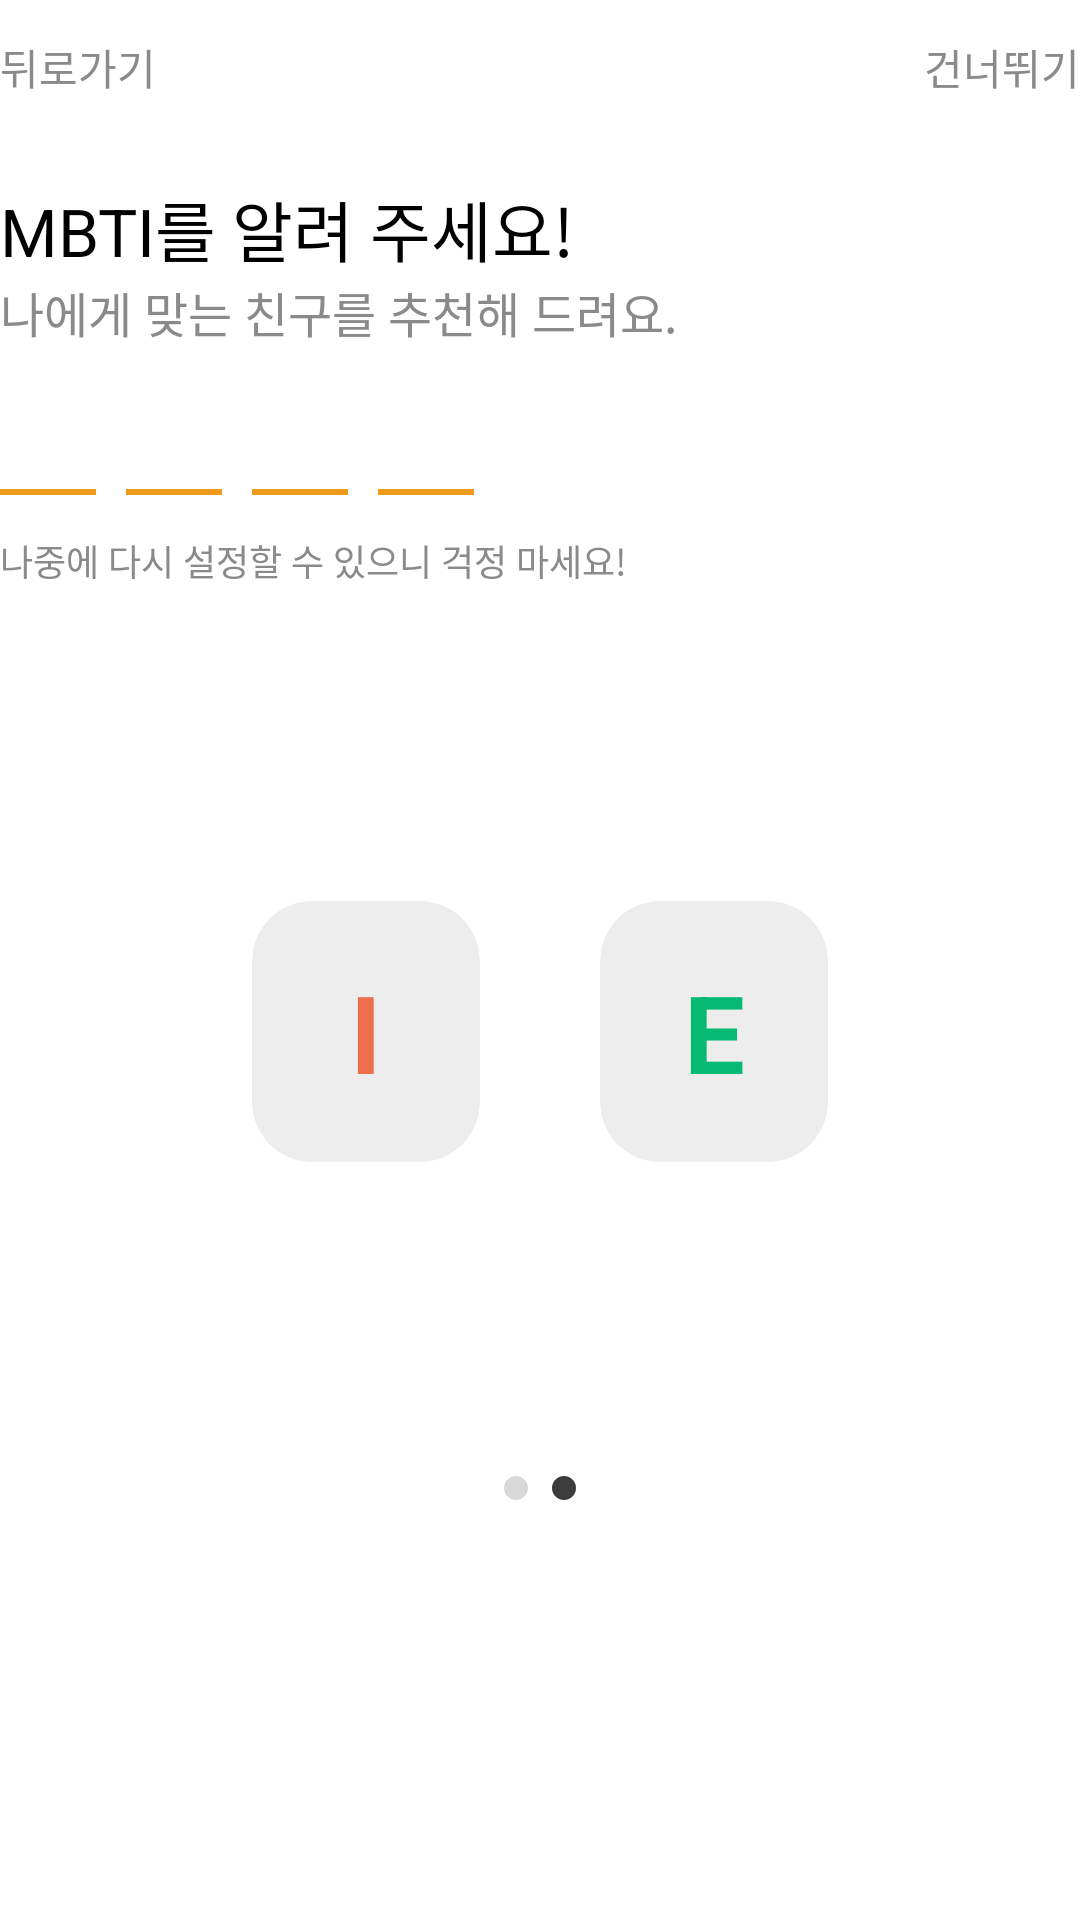

Where to tap for icons on this 1080x1920 app screen, as (x=x, y=y):
dot two: (x=540, y=1488)
